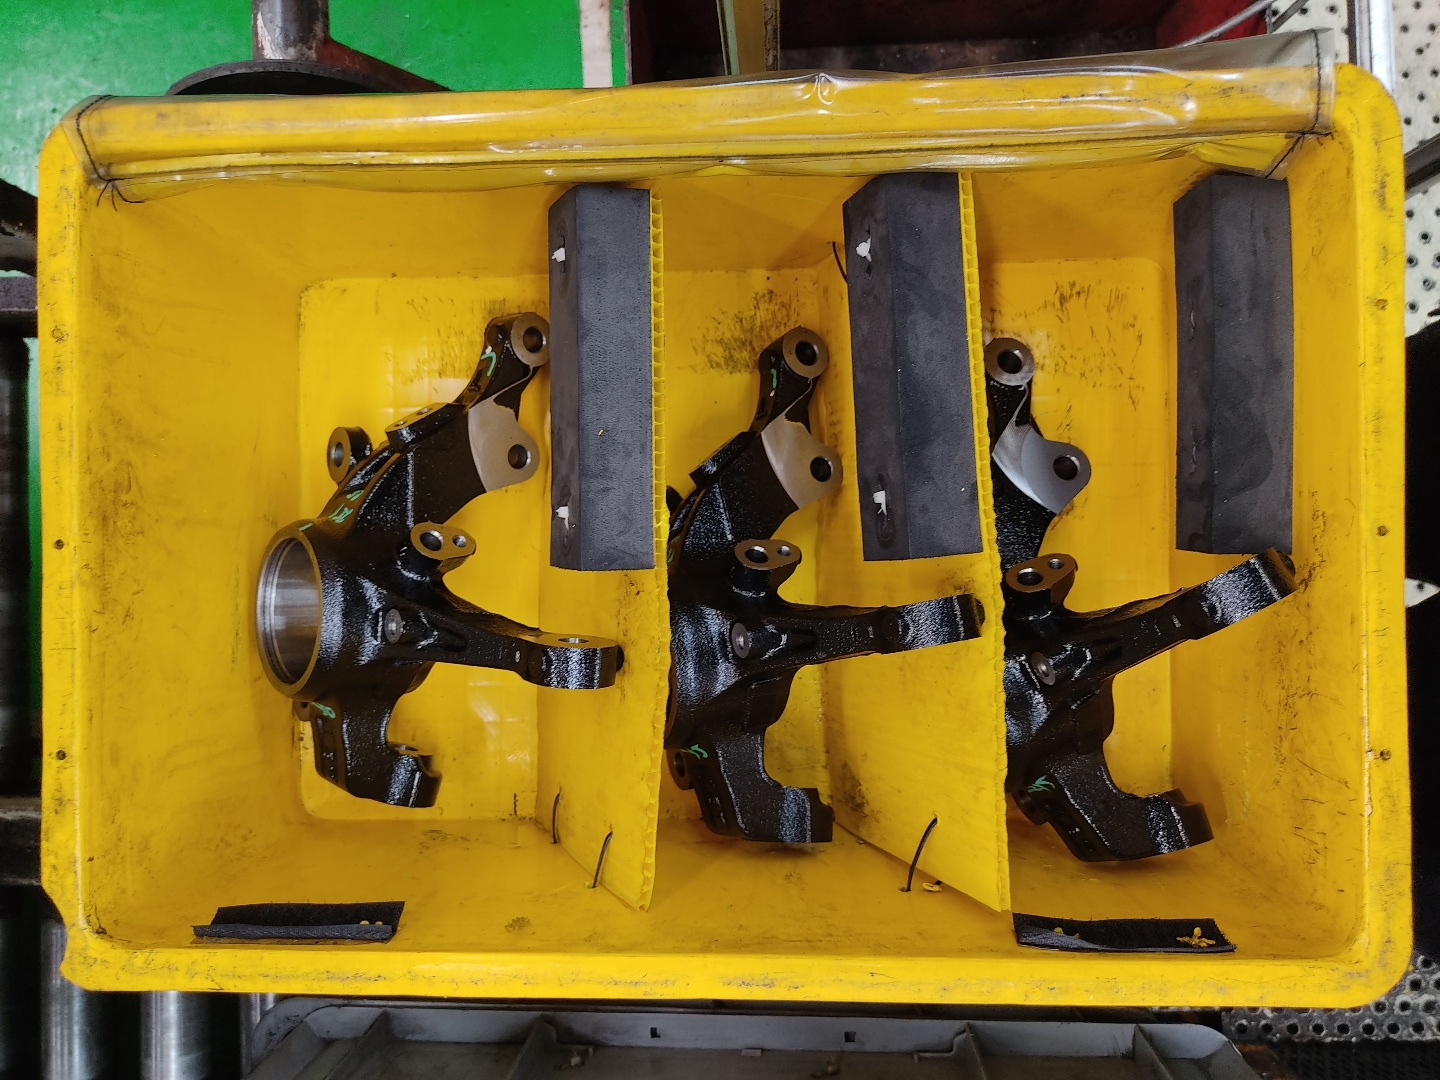abs-lh: (246, 306, 632, 818), (979, 317, 1308, 877), (646, 317, 988, 854)
